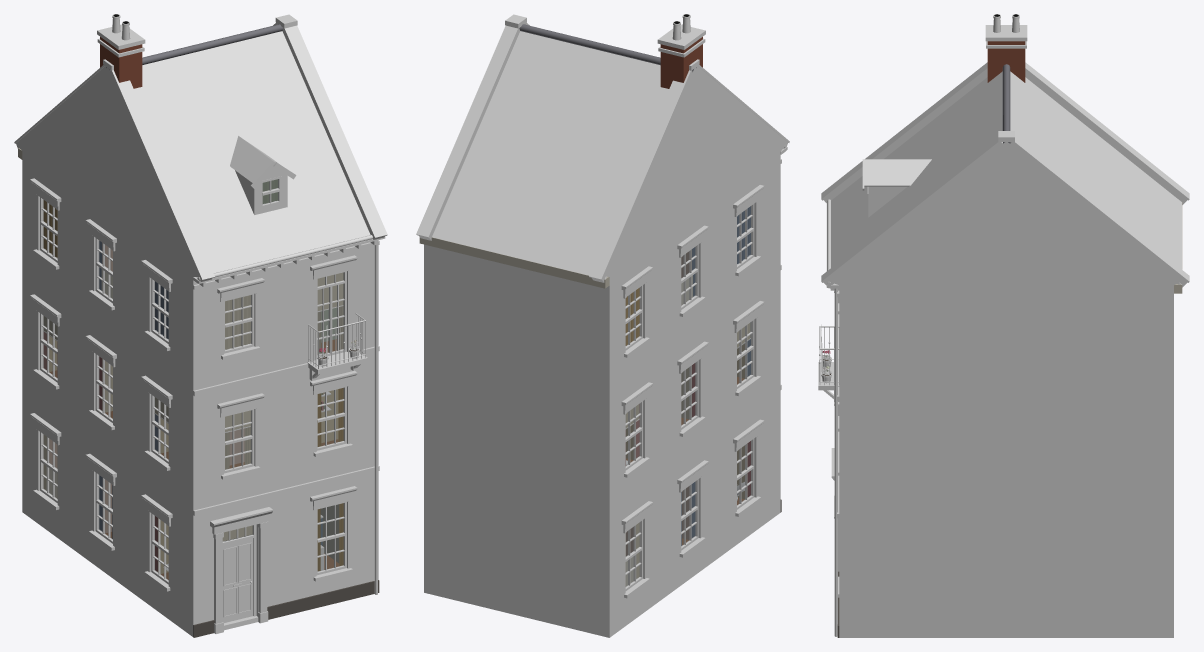
Rendered from Opposite_Opposite2_1.glb.
3 views of the same model, side by side, from view 1: azimuth 30°, elevation 25°; view 2: azimuth 150°, elevation 25°; view 3: azimuth 270°, elevation 25° (orthographic). The views are drawn at different scales.
Visible parts, largest first — view 1: Opposite_Opposite2_1; view 2: Opposite_Opposite2_1; view 3: Opposite_Opposite2_1.
Part boxes in pixels (<box>): Opposite_Opposite2_1: <box>14,14,387,637</box>; Opposite_Opposite2_1: <box>416,14,789,637</box>; Opposite_Opposite2_1: <box>818,14,1189,637</box>.
Size of the model in its own units: 5.13 by 14.25 by 8.88.
